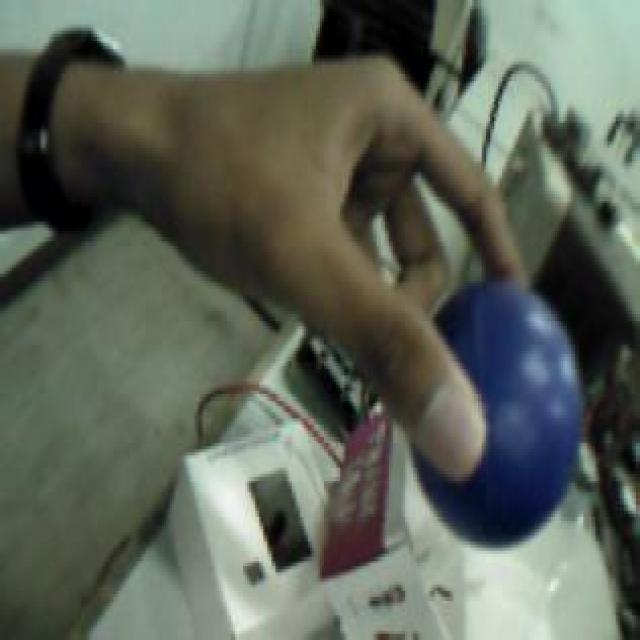BallPurple: (409, 276, 583, 549)
